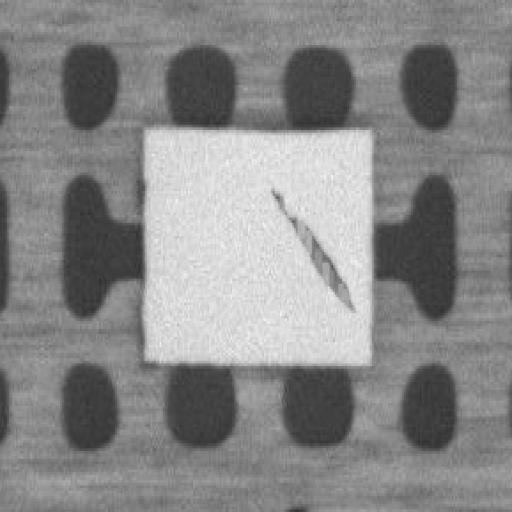DIE_INK: (264, 180, 363, 324)
